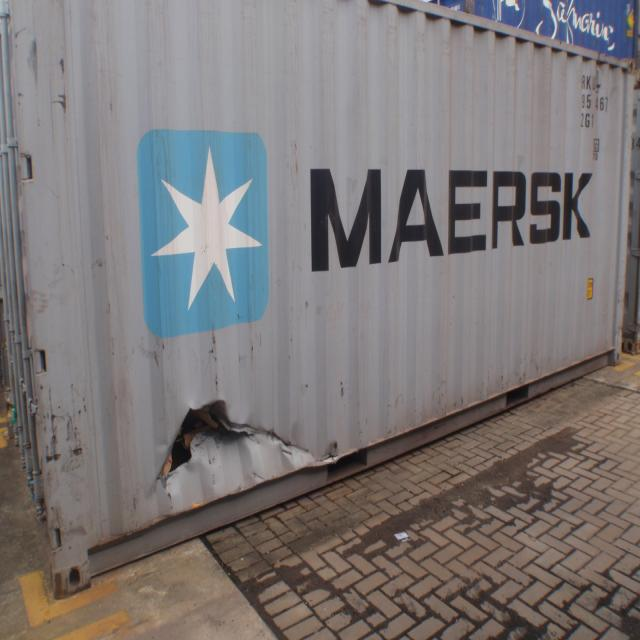hole: (152, 402, 339, 484)
